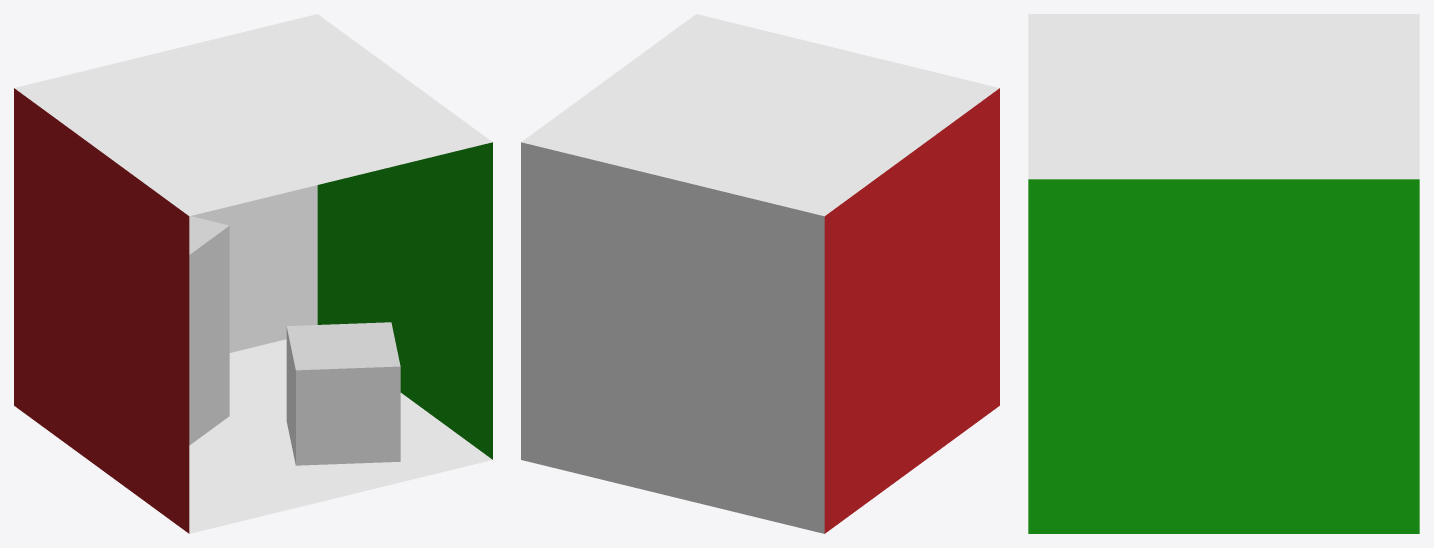
Rendered from cornell.glb.
3 renders of one model, left to right at view 1: azimuth 30°, elevation 25°; view 2: azimuth 150°, elevation 25°; view 3: azimuth 270°, elevation 25°, orthographic. The views are drawn at different scales.
Parts seen in each view (by area): view 1: Plane, Plane.002, Plane.001, Cube.001, Cube; view 2: Plane, Plane.002; view 3: Plane.001, Plane.
Part boxes in pixels (bbox=[...]): Plane: bbox=[14, 14, 492, 533]; Plane.002: bbox=[14, 88, 189, 533]; Plane.001: bbox=[317, 142, 492, 459]; Cube.001: bbox=[286, 322, 400, 465]; Cube: bbox=[189, 216, 229, 445]; Plane: bbox=[521, 14, 999, 533]; Plane.002: bbox=[824, 88, 999, 533]; Plane.001: bbox=[1028, 179, 1419, 533]; Plane: bbox=[1028, 14, 1419, 179].
Bounding box in the file's own units: 10 × 10 × 10.
